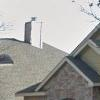Chimney: (20, 12, 43, 52)
